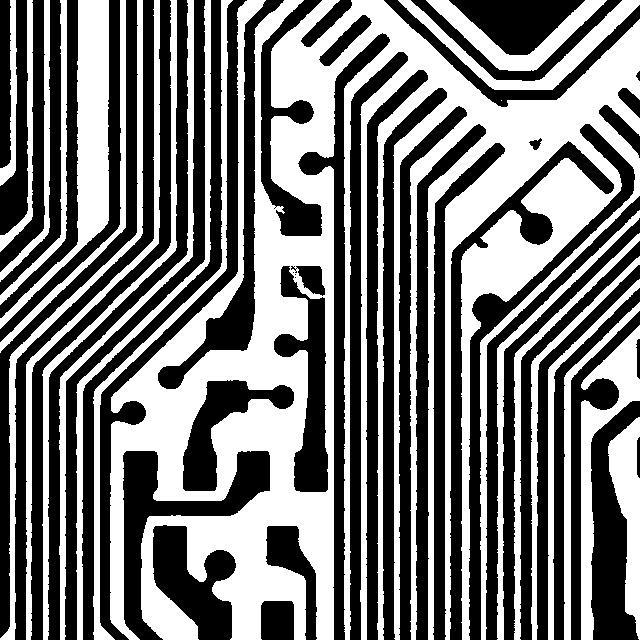copper: (519, 128, 551, 159)
mousebite: (261, 195, 294, 223)
open: (279, 252, 336, 308)
spur: (481, 84, 517, 116), (463, 227, 497, 257)
